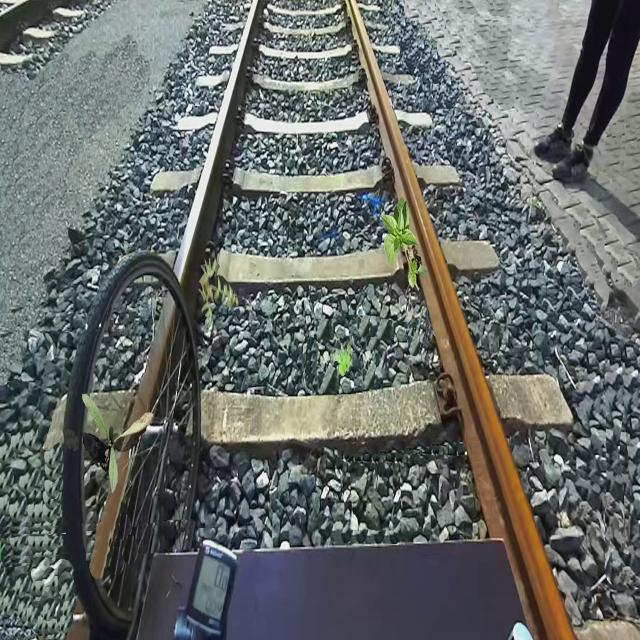Plant: (82, 394, 154, 494), (380, 196, 428, 291), (198, 257, 240, 328), (332, 343, 352, 376)
